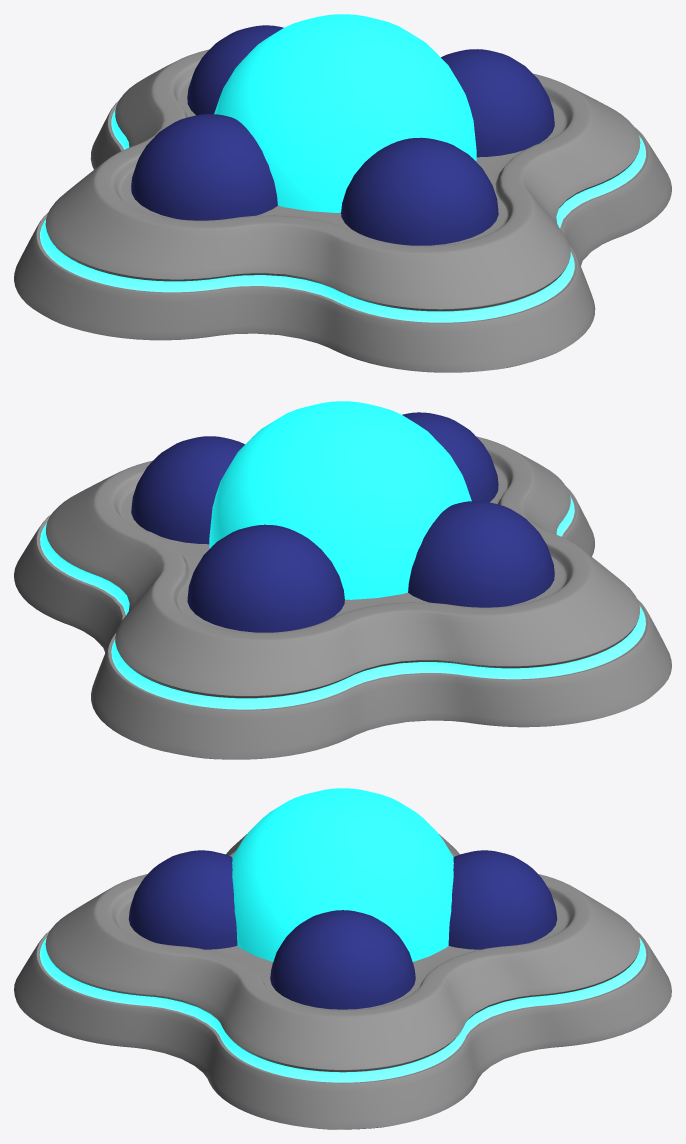
The model's file is ActivatorAnchor.fbx.
3 views of the same model, one above another, from view 1: azimuth 30°, elevation 25°; view 2: azimuth 150°, elevation 25°; view 3: azimuth 270°, elevation 25° (orthographic). The views are drawn at different scales.
Parts seen in each view (by area): view 1: Anchor.base.001, Anchor.function.activator; view 2: Anchor.base.001, Anchor.function.activator; view 3: Anchor.base.001, Anchor.function.activator.
Boxes of the visible parts, x1,y1,x2,y2 form: Anchor.base.001: [14, 49, 671, 372]; Anchor.function.activator: [131, 14, 554, 245]; Anchor.base.001: [14, 436, 671, 759]; Anchor.function.activator: [131, 401, 554, 632]; Anchor.base.001: [14, 834, 671, 1129]; Anchor.function.activator: [128, 788, 557, 1009].
Size of the model in its own units: 160 by 160 by 51.37.
